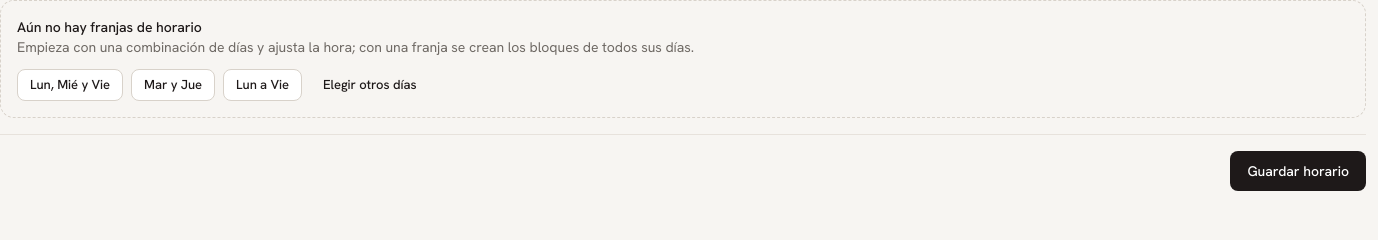
Test: HorarioEditor (franjas) › sin franjas no envía y dice que falta al menos una
Click the button "Guardar horario".
click(1298, 171)  # box [1230,151,1366,191]
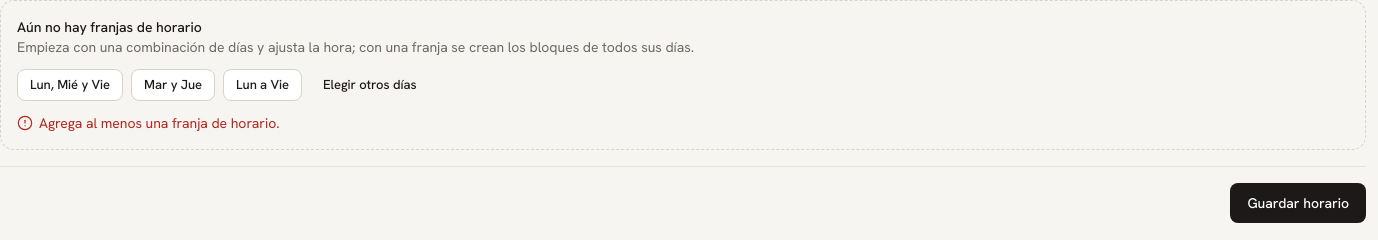
expect the text "Agrega al menos una franja de horario." is shown: met, box [17,114,280,132]
